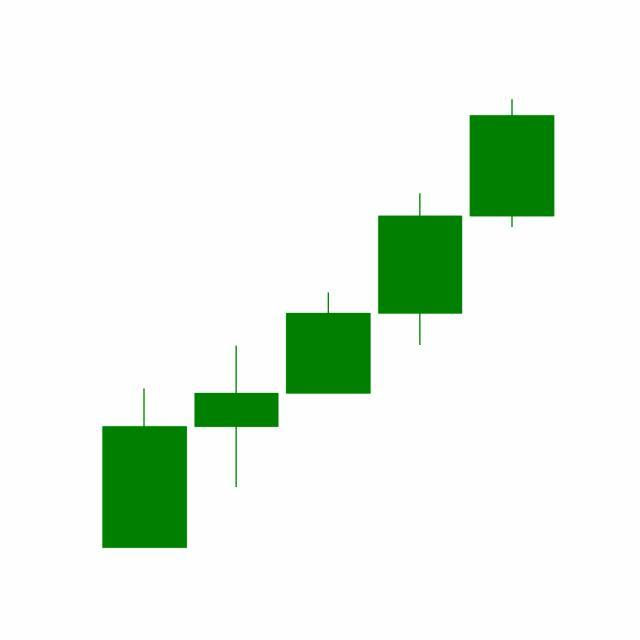Marubozu: (466, 98, 559, 230)
